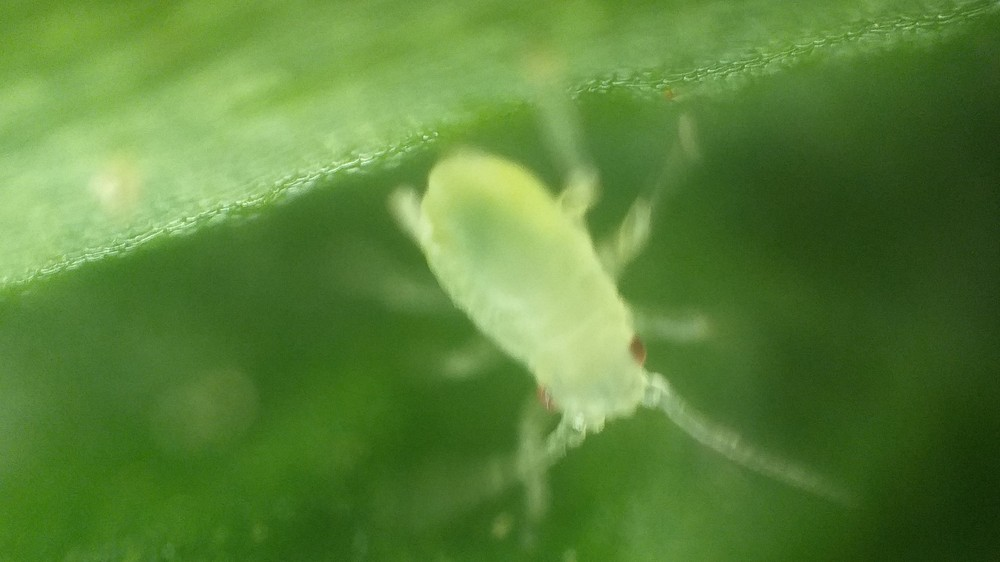Pulgon: (332, 94, 910, 537)
